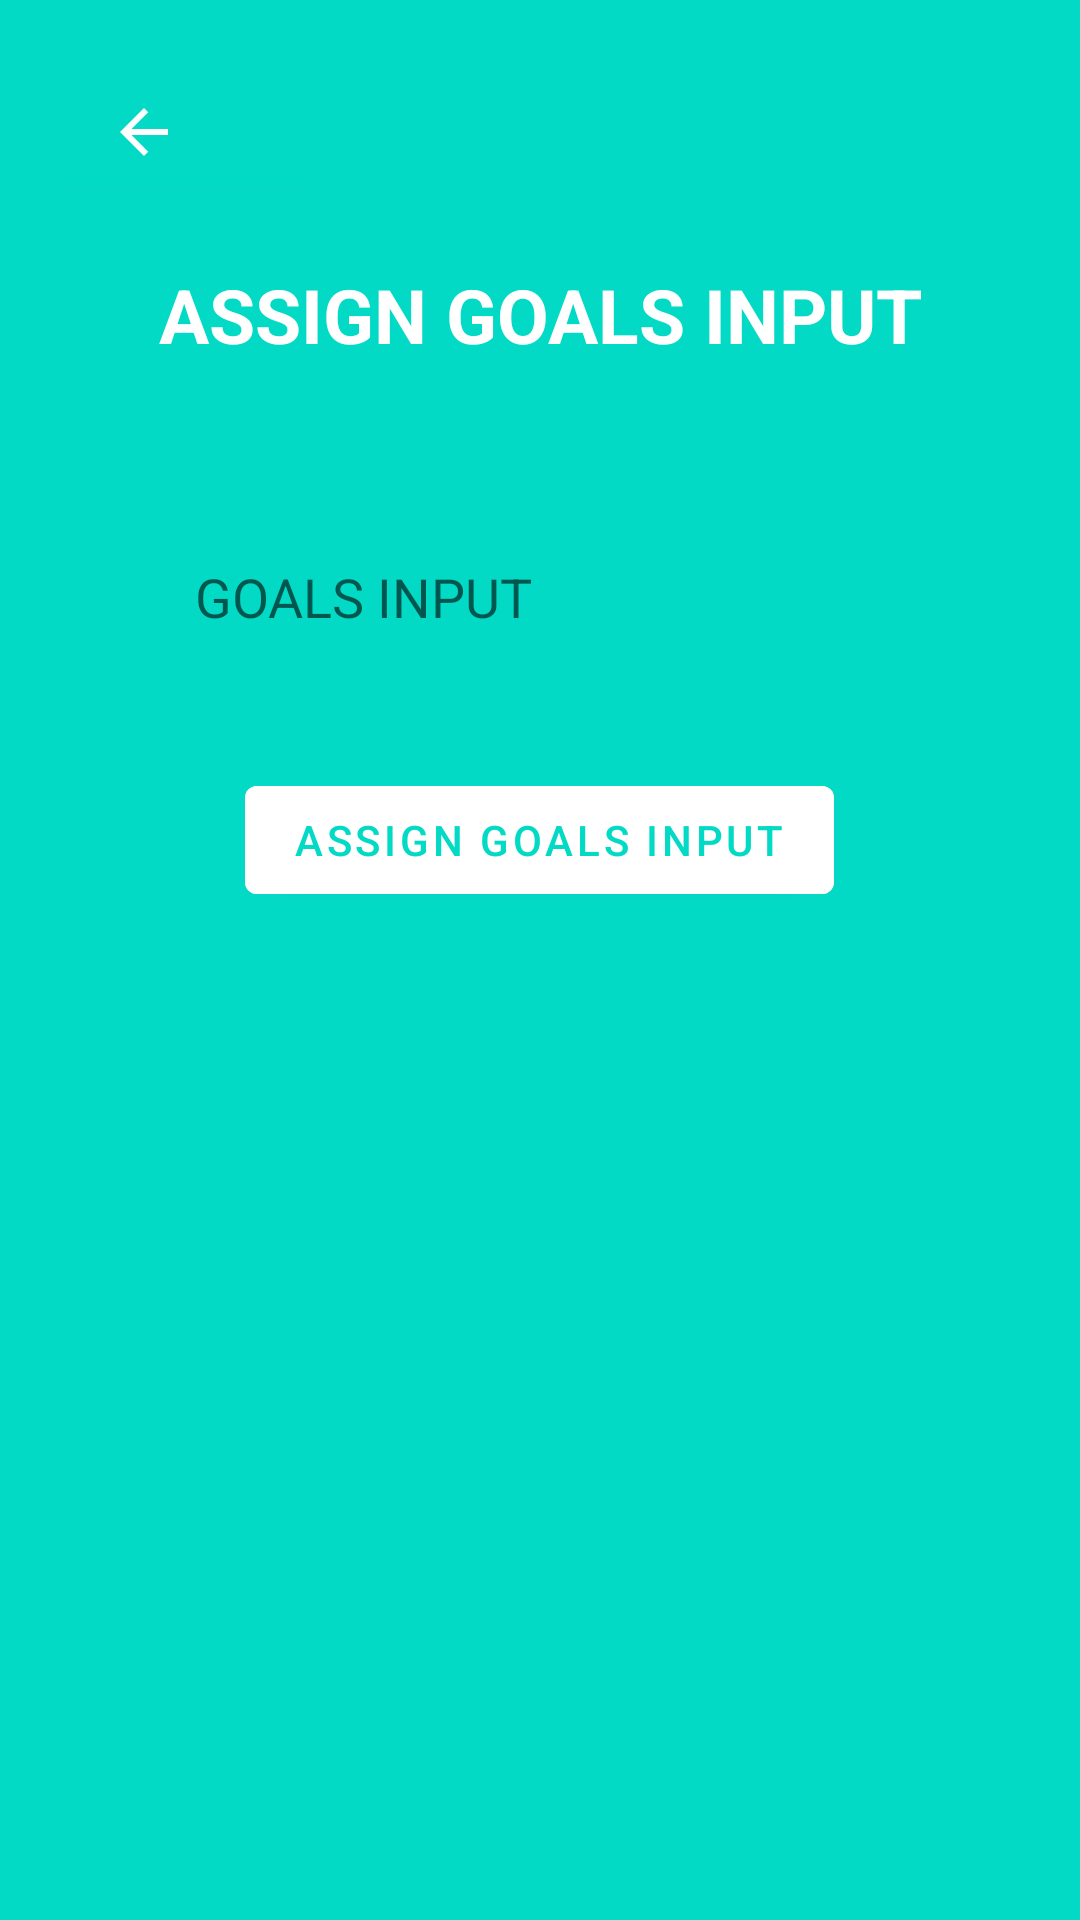

Named icons in this screenshot (1080w x 1920h) and their centers, (x,y):
return: (144,132)
